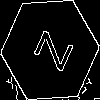Z: (25, 25, 74, 72)
